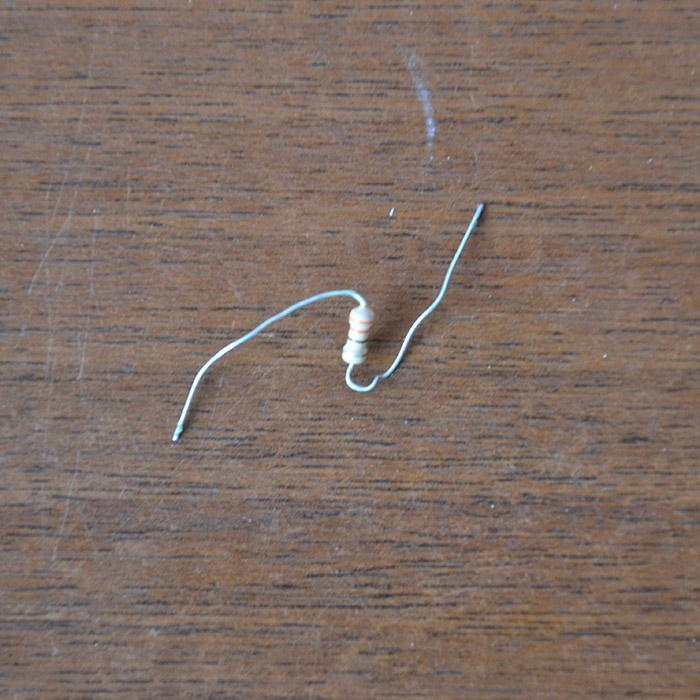resistor: (342, 301, 374, 365)
